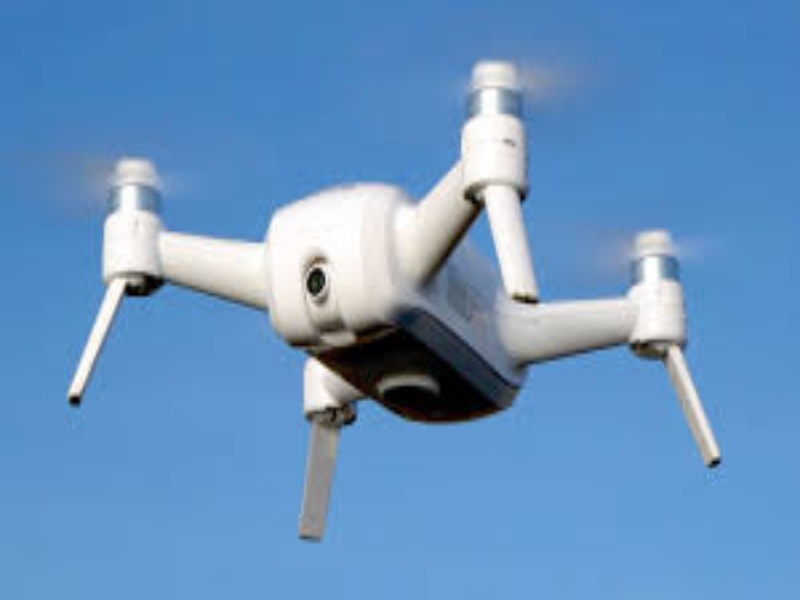drone: (62, 58, 725, 540)
